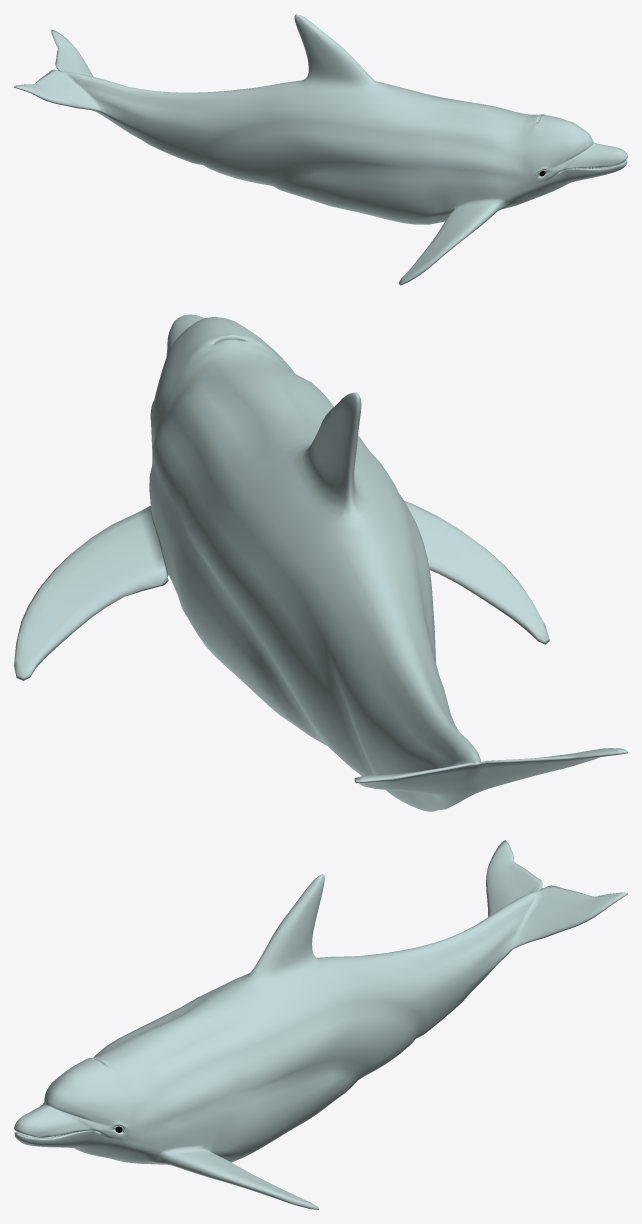
The model's file is dolphin_000007.obj.
3 renders of one model, top to bottom at view 1: azimuth 30°, elevation 25°; view 2: azimuth 150°, elevation 25°; view 3: azimuth 270°, elevation 25°, orthographic. The views are drawn at different scales.
Visible parts, largest first — view 1: Dolphin; view 2: Dolphin; view 3: Dolphin.
Part boxes in pixels (x1,y1,x2,y2): Dolphin: (14, 14, 627, 285); Dolphin: (14, 314, 627, 811); Dolphin: (14, 840, 627, 1209).
Bounding box in the file's own units: 5.51 × 2.49 × 5.6.
